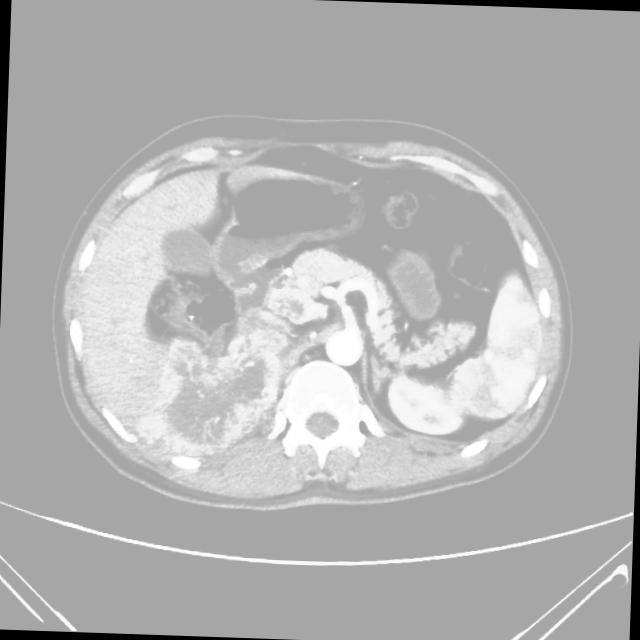TUMOR: (63, 157, 536, 392)
